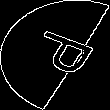P_SE: (14, 27, 96, 83)
